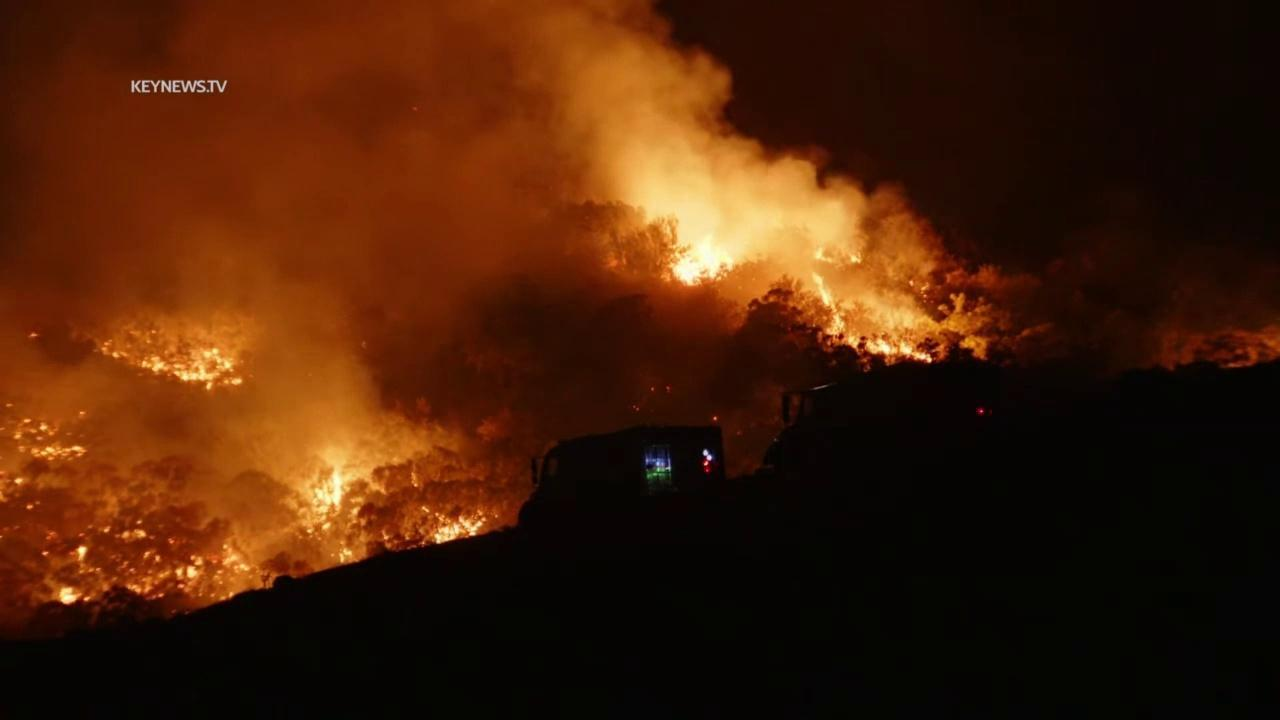fire: (56, 522, 255, 610), (808, 269, 933, 366), (98, 323, 245, 394), (304, 452, 356, 567), (669, 229, 738, 289), (11, 416, 90, 463), (418, 503, 492, 546), (812, 245, 836, 265), (849, 251, 864, 265), (25, 333, 39, 341), (665, 383, 673, 396), (632, 404, 640, 412), (710, 415, 720, 421), (648, 385, 656, 392)
smoke: (3, 0, 1280, 650)
